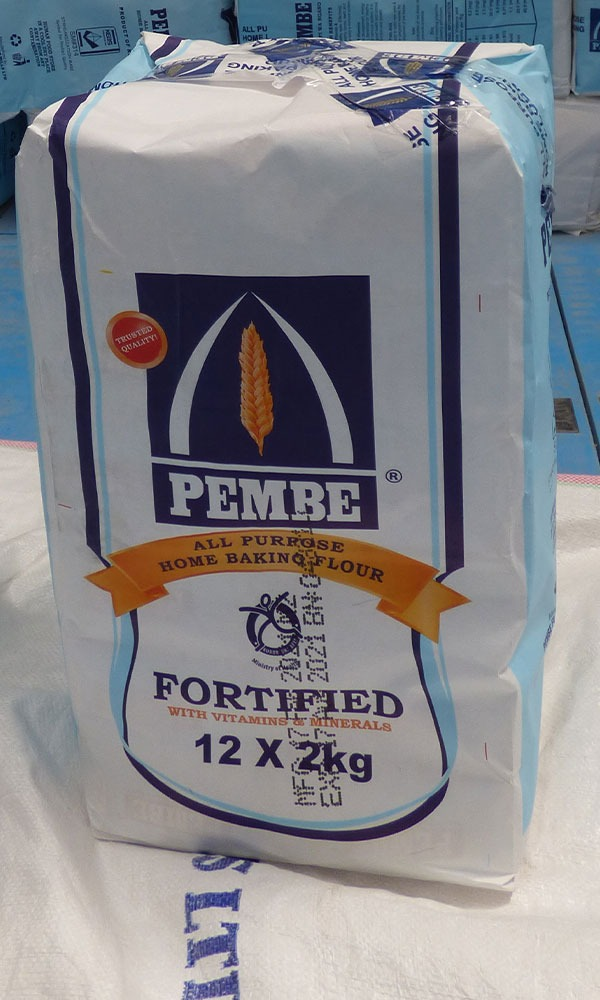wheat_flour_blue_label: (12, 26, 552, 883)
